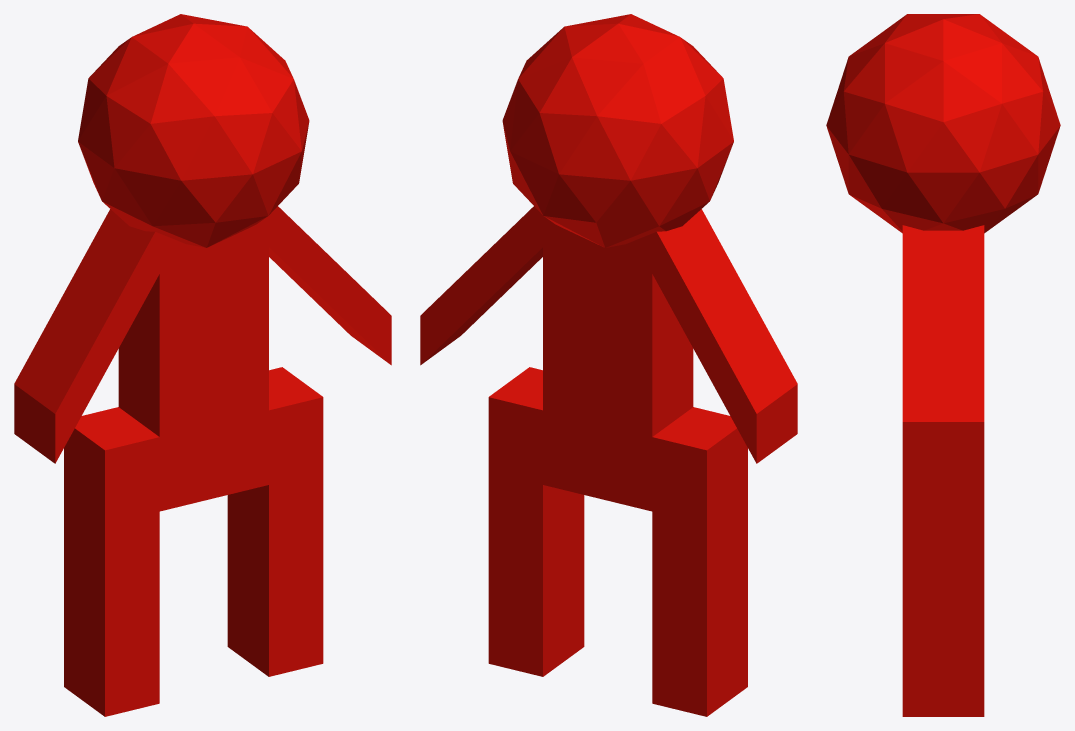
File: super_basic_human.dae
The picture shows the model from 3 angles, left to right: view 1: azimuth 30°, elevation 25°; view 2: azimuth 150°, elevation 25°; view 3: azimuth 270°, elevation 25°; orthographic projection.
Parts seen in each view (by area): view 1: Cube; view 2: Cube; view 3: Cube.
Boxes of the visible parts, x1,y1,x2,y2 form: Cube: [14, 14, 391, 716]; Cube: [420, 14, 797, 716]; Cube: [826, 14, 1060, 716].
Bounding box in the file's own units: 1.12 × 0.6832 × 2.07.
